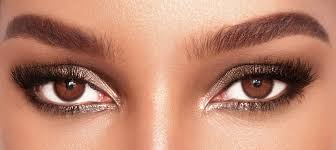pupil: (53, 76, 85, 101), (242, 74, 273, 98)
